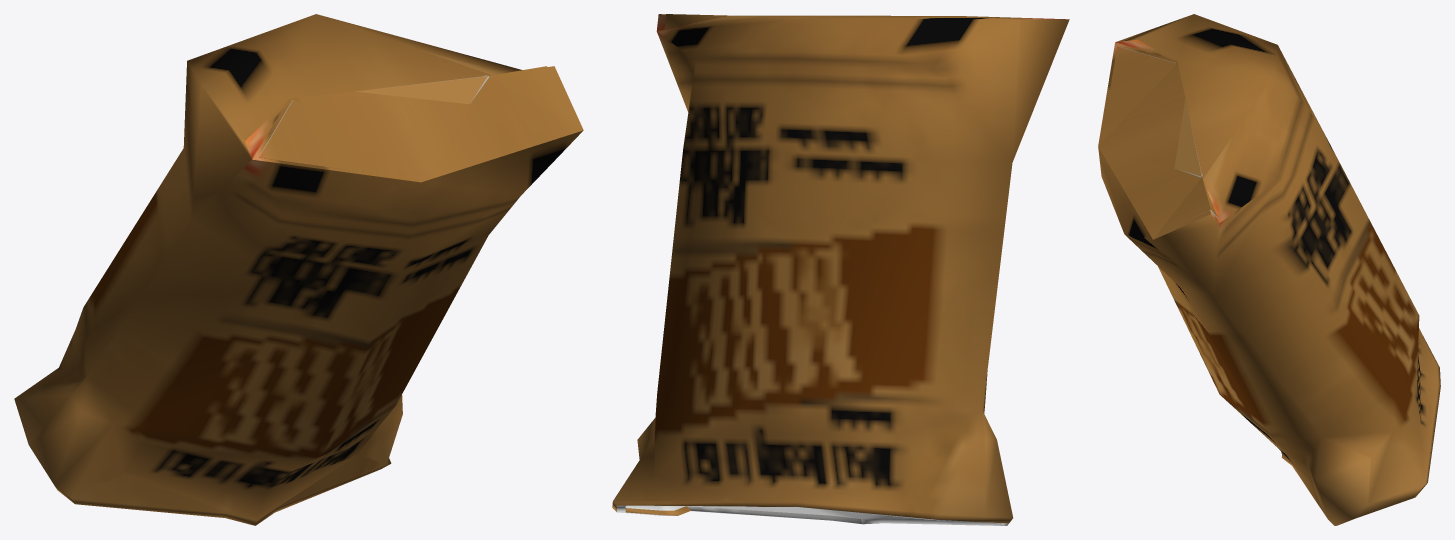
File: H_MRE_Open.fbx
3 renders of one model, left to right at view 1: azimuth 30°, elevation 25°; view 2: azimuth 150°, elevation 25°; view 3: azimuth 270°, elevation 25°, orthographic. The views are drawn at different scales.
Visible parts, largest first — view 1: MRE; view 2: MRE; view 3: MRE.
Part boxes in pixels (box(x1,y1,x2,y2)): MRE: box(14, 14, 583, 525); MRE: box(612, 14, 1069, 525); MRE: box(1098, 14, 1440, 525).
Size of the model in its own units: 44.29 by 50 by 38.2.
